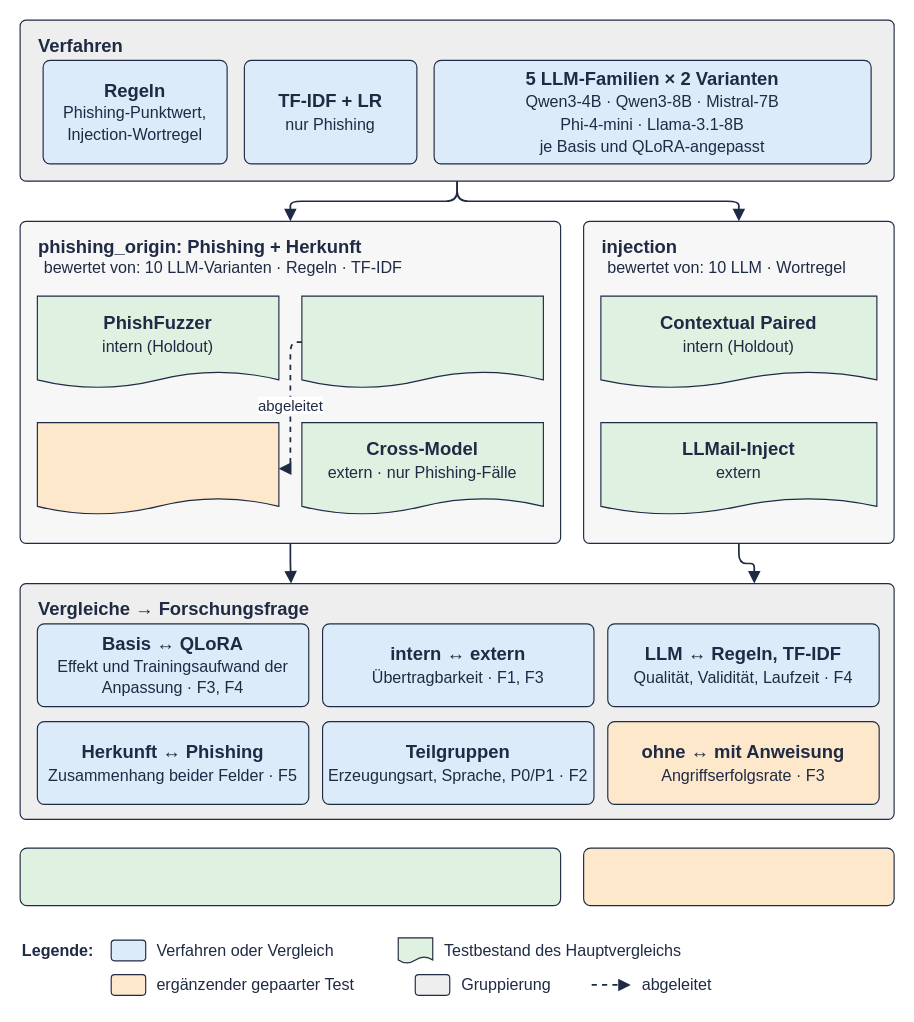
This 914x1022 diagram has some shape labels left out. The shapes that lost their labels are listed below. From the top down, each one's centre as x and y in pixels, then its label:
the point at 422,341: E-PhishLLM extern · Herkunft nur LLM
the point at 157,468: Gepaarter Test 495 Paare, ohne / mit Anweisung
the point at 290,876: Hauptvergleich: 58 Läufe · 49.680 Bewertungen
the point at 738,876: Ergänzend: 10 Läufe · 9.900 Bewertungen
